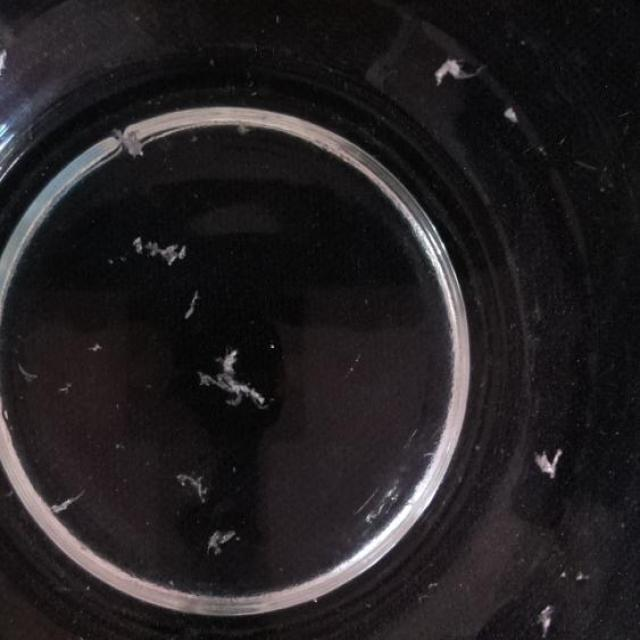fiber: (198, 351, 264, 406), (428, 52, 486, 93), (168, 465, 216, 511), (133, 235, 190, 272), (110, 129, 152, 168), (42, 490, 88, 517), (202, 524, 242, 550), (530, 452, 562, 484), (9, 361, 40, 387), (505, 94, 526, 125), (175, 293, 206, 314), (51, 380, 79, 395), (82, 338, 104, 357), (0, 49, 13, 81), (542, 608, 557, 634), (233, 118, 250, 138)
